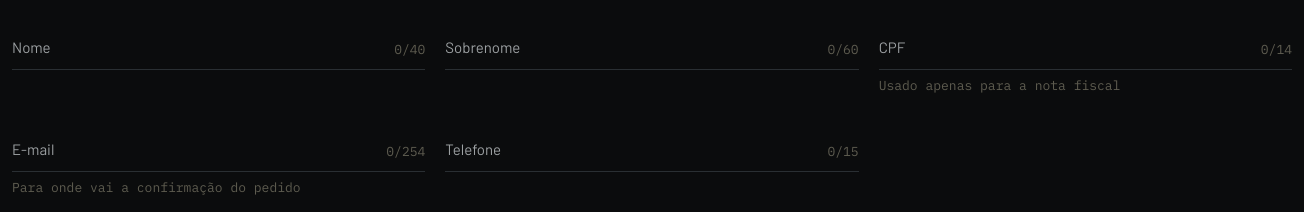
Test case: PersonalStep › aplica a máscara brasileira ao digitar
The image size is (1304, 212).
Type "12345678909" into the field labelled "CPF". click: (1085,43)
box: [879,16,1292,70]
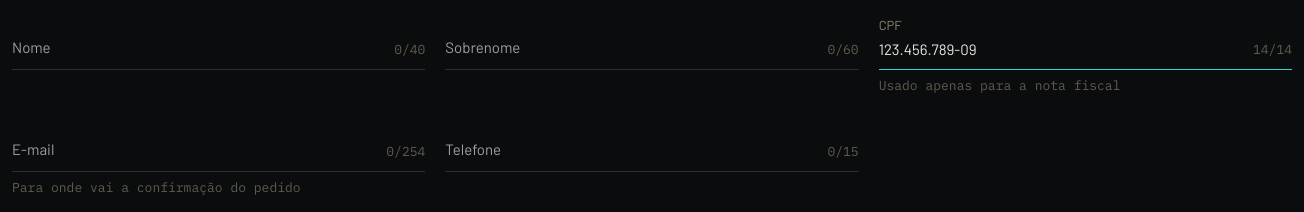
Result: the field labelled "CPF" holds "123.456.789-09" at [879,16,1292,70]
Type "31998765432" into the field labelled "Telefone". click: (652,145)
box: [445,118,859,172]
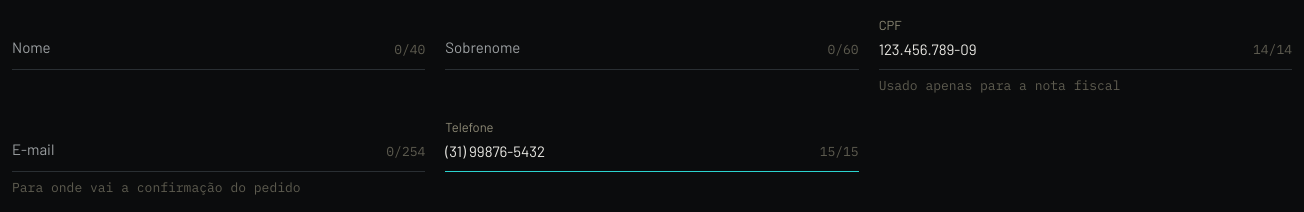
Result: the field labelled "Telefone" holds "(31) 99876-5432" at [445,118,859,172]
